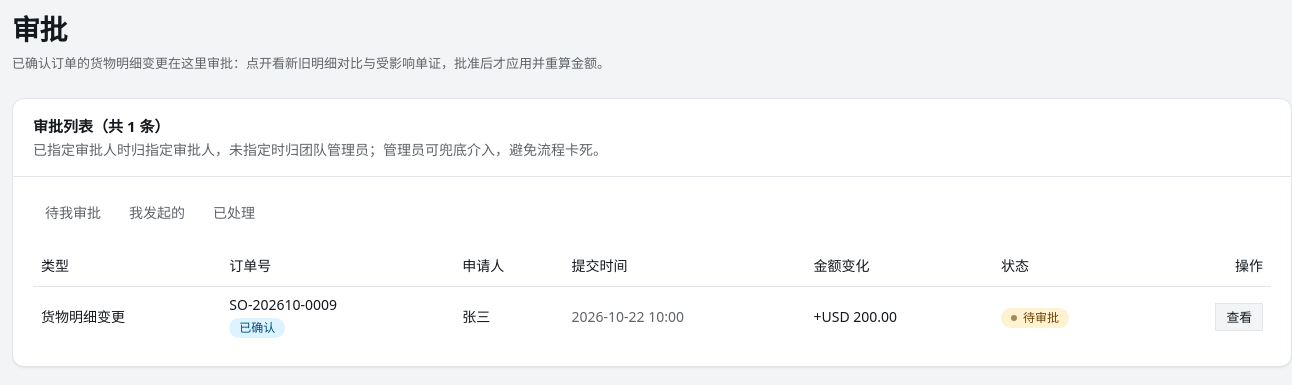
Test: 审批中心三视图 › 切「已处理」：按 view=done 重新请求，显示已批准与处理意见入口
Click the tab "已处理": (234, 214) [201,197,267,231]
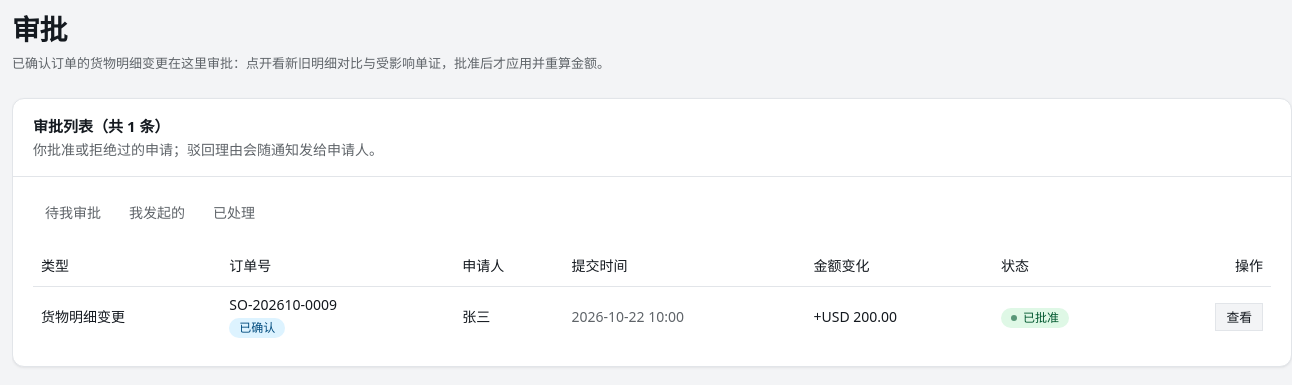
Now the text "已批准" is shown, box [1001,308,1069,328]
